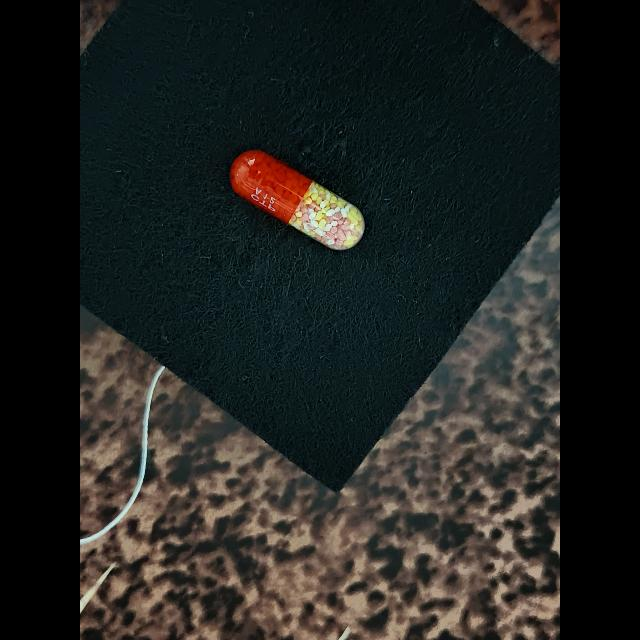Intact Capsule: (230, 150, 365, 250)
